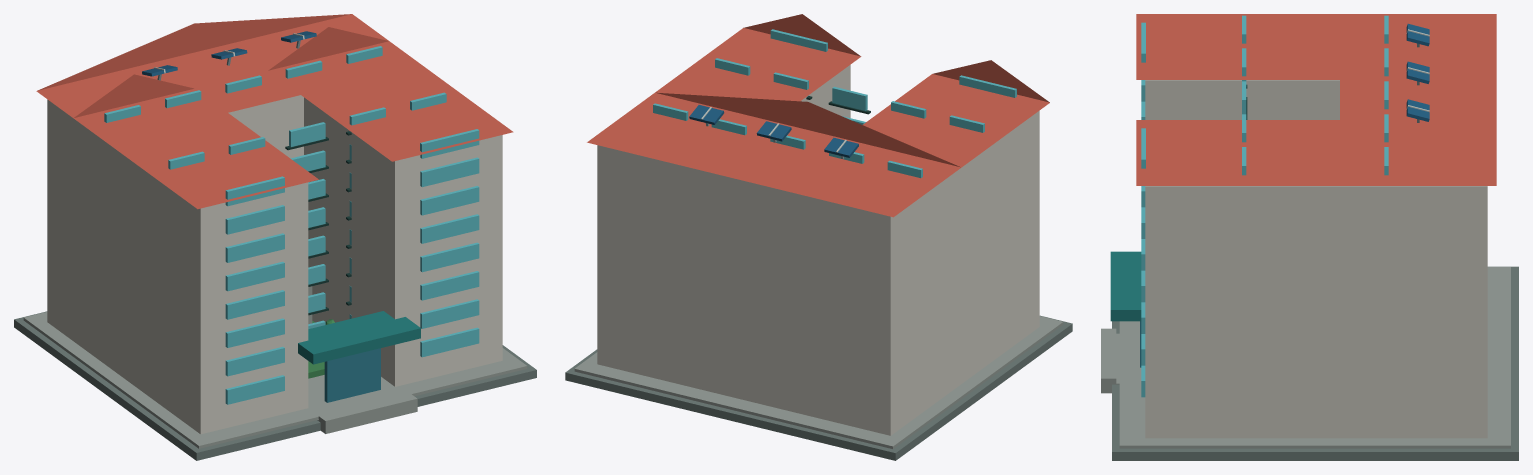
Rendered from university_lv3.glb.
3 renders of one model, left to right at view 1: azimuth 30°, elevation 25°; view 2: azimuth 150°, elevation 25°; view 3: azimuth 270°, elevation 25°, orthographic. The views are drawn at different scales.
Visible parts, largest first — view 1: rough, glossy, metallic; view 2: rough, glossy, metallic; view 3: rough, glossy, metallic.
Boxes of the visible parts, bbox=[...] form: rough: bbox=[14, 14, 536, 460]; glossy: bbox=[104, 46, 479, 404]; metallic: bbox=[142, 31, 316, 80]; rough: bbox=[565, 14, 1072, 460]; glossy: bbox=[653, 29, 1016, 178]; metallic: bbox=[689, 105, 858, 158]; rough: bbox=[1101, 14, 1518, 460]; glossy: bbox=[1140, 15, 1388, 397]; metallic: bbox=[1406, 23, 1429, 122].
Bounding box in the file's own units: 9.8 × 7.42 × 9.34.
